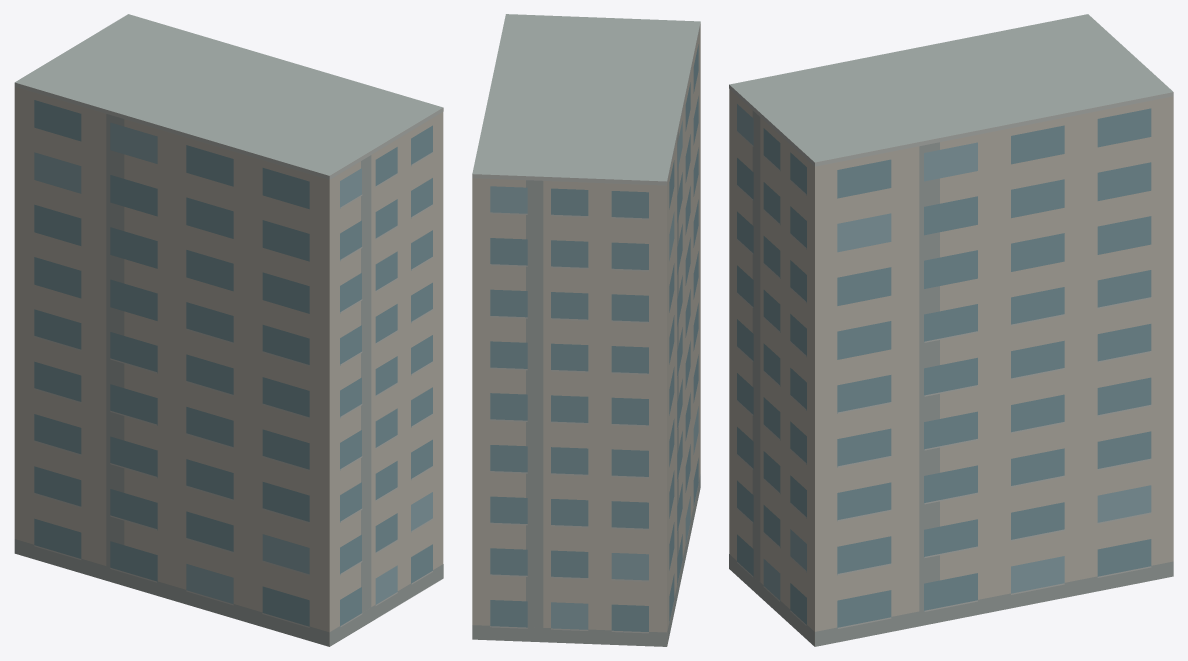
Rendered from residential-3fdc6865-bd5d-4b1a-ba24-828644ae8970.glb.
3 renders of one model, left to right at view 1: azimuth 30°, elevation 25°; view 2: azimuth 150°, elevation 25°; view 3: azimuth 270°, elevation 25°, orthographic. The views are drawn at different scales.
Visible parts, largest first — view 1: residential-3fdc6865-bd5d-4b1a-ba24-828644ae8970.tmp; view 2: residential-3fdc6865-bd5d-4b1a-ba24-828644ae8970.tmp; view 3: residential-3fdc6865-bd5d-4b1a-ba24-828644ae8970.tmp.
Boxes of the visible parts, left/top/right/bottom form: residential-3fdc6865-bd5d-4b1a-ba24-828644ae8970.tmp: left=14, top=14, right=443, bottom=646; residential-3fdc6865-bd5d-4b1a-ba24-828644ae8970.tmp: left=472, top=14, right=700, bottom=646; residential-3fdc6865-bd5d-4b1a-ba24-828644ae8970.tmp: left=729, top=14, right=1173, bottom=646.
Size of the model in its own units: 18.42 by 28 by 23.3.
